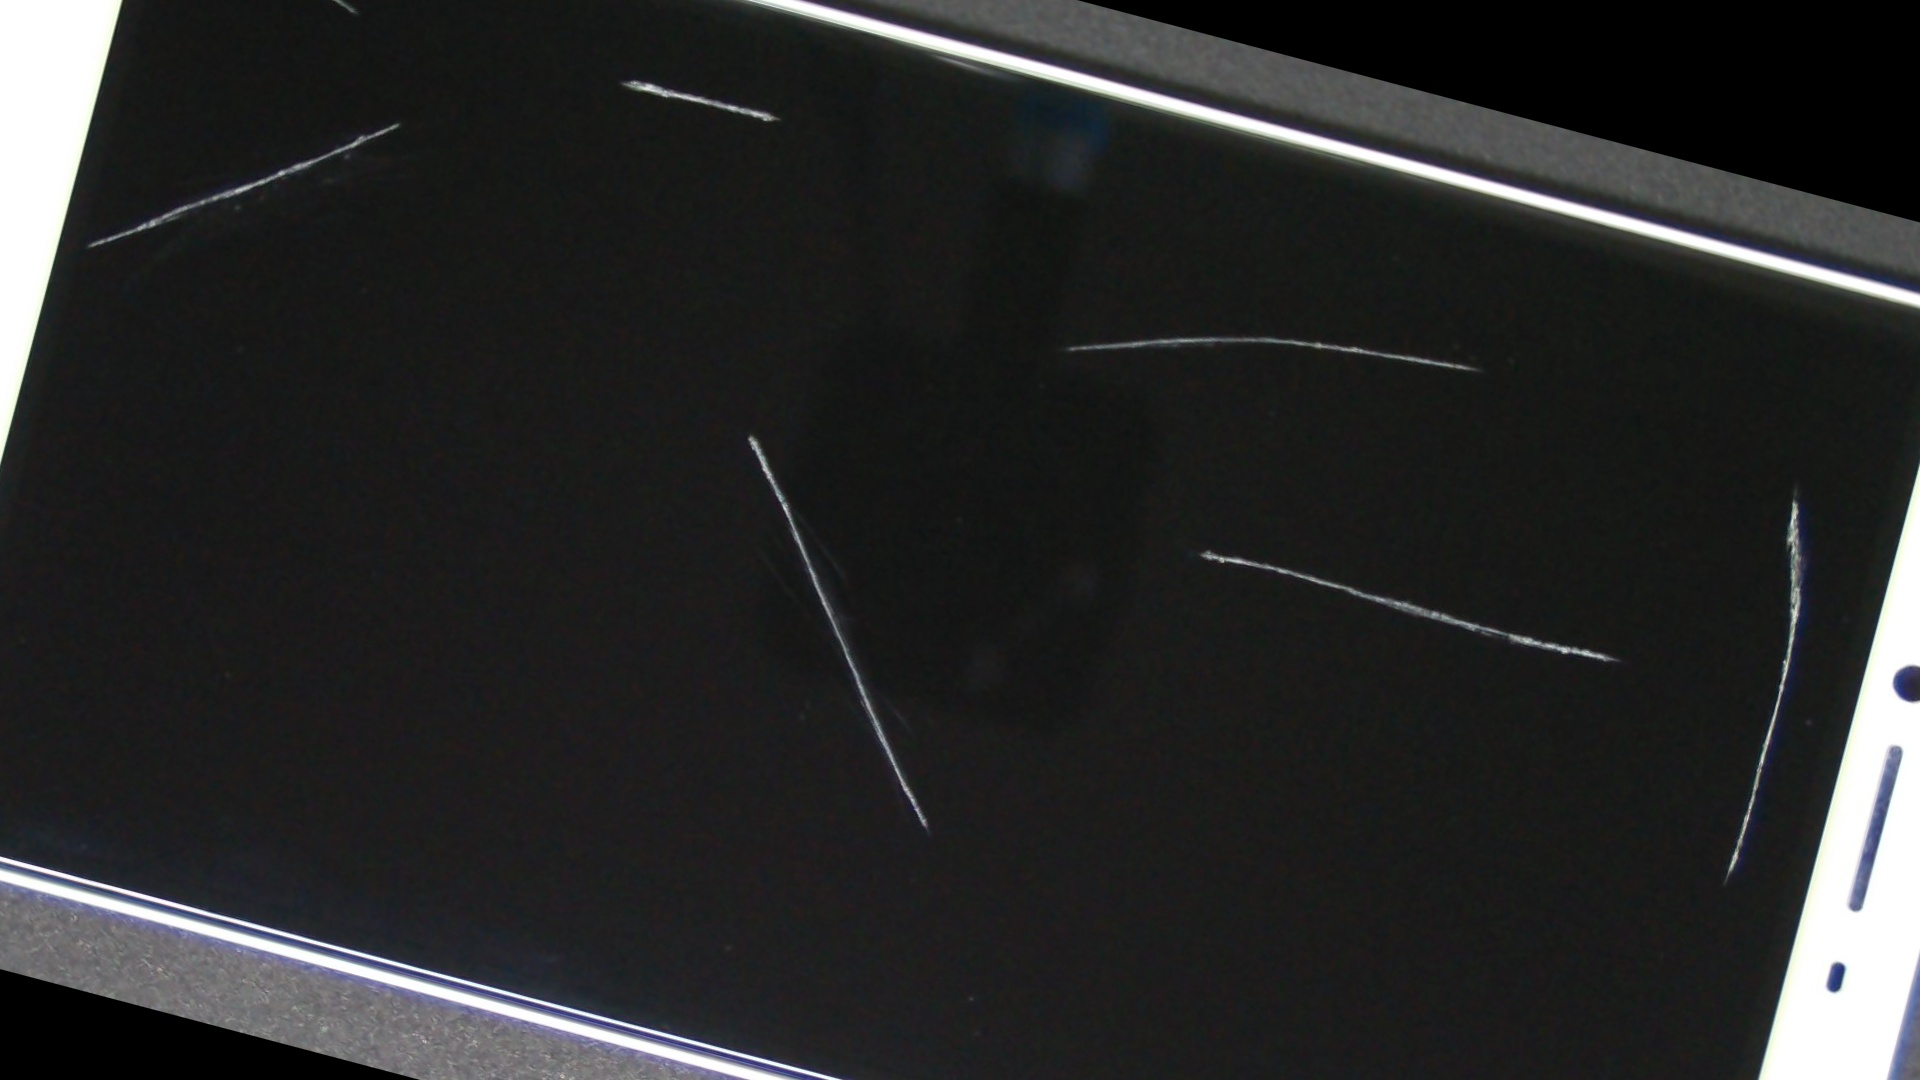oil: (504, 137, 1920, 990), (657, 37, 1920, 657), (240, 73, 1261, 795), (812, 88, 1920, 721), (328, 0, 1204, 309), (117, 0, 675, 328)
